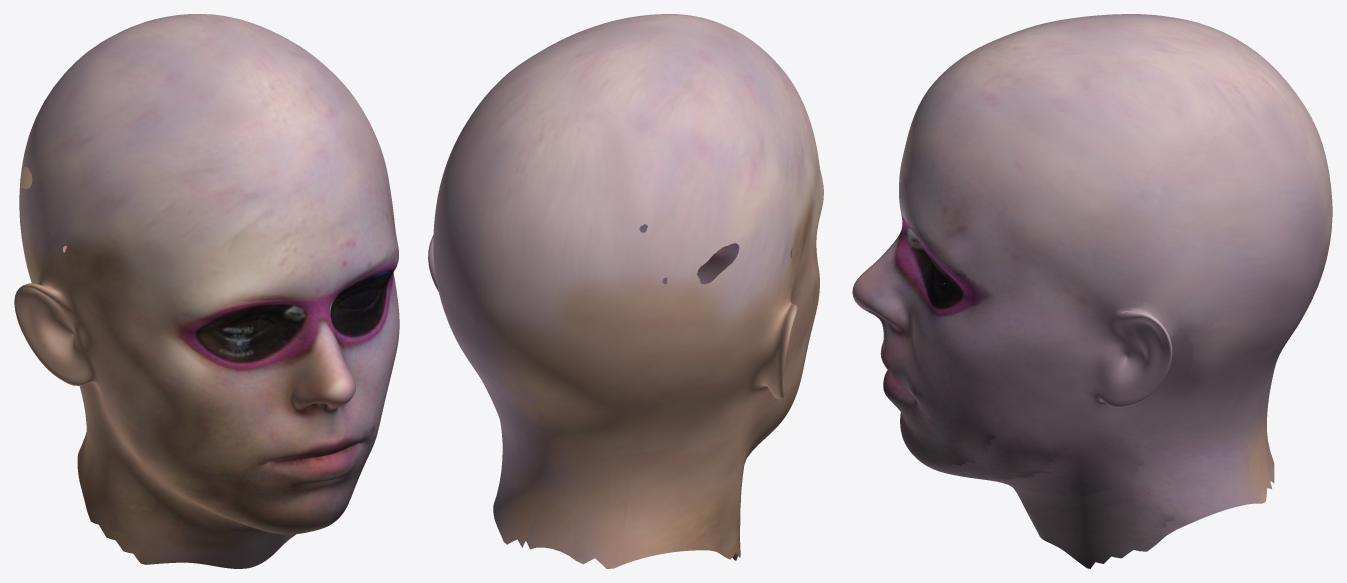
Rendered from Announcer.fbx.
3 views of the same model, side by side, from view 1: azimuth 30°, elevation 25°; view 2: azimuth 150°, elevation 25°; view 3: azimuth 270°, elevation 25° (orthographic). The views are drawn at different scales.
Visible parts, largest first — view 1: Head; view 2: Head; view 3: Head.
Boxes of the visible parts, x1,y1,x2,y2 form: Head: (14,14,399,568); Head: (428,14,823,568); Head: (852,14,1332,568).
Bounding box in the file's own units: 174 × 240 × 208.
